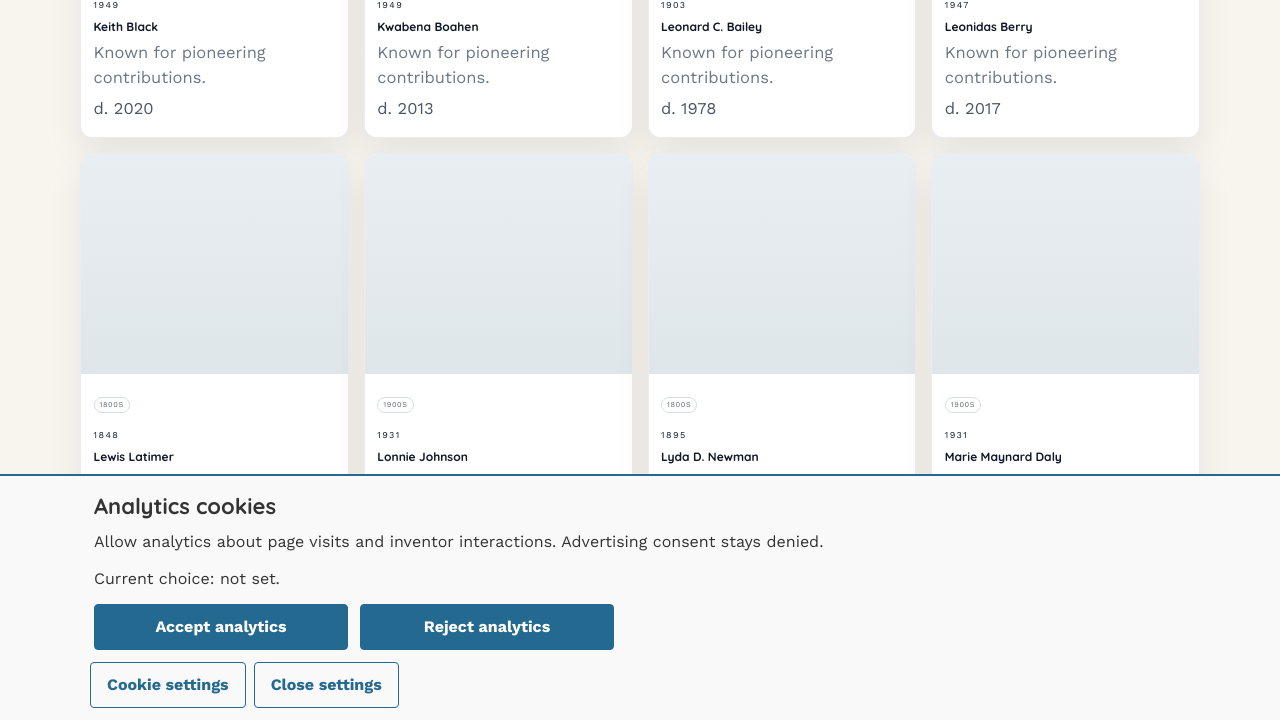
Test: app navigation › navigates from the archive grid to an inventor detail page
(page scrolled)
Click the link with aria-label "view details for lewis latimer".
click(214, 361)  # box left=81, top=154, right=348, bottom=567
(page scrolled)
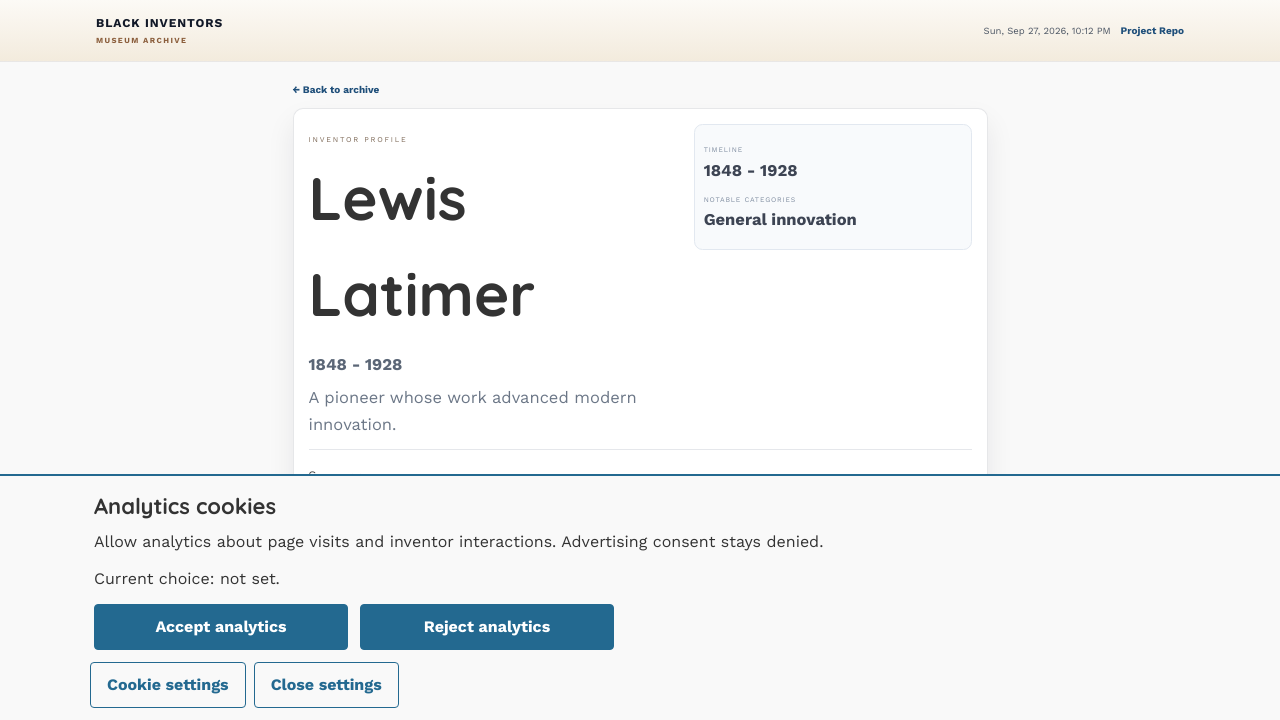
Expected: the heading "Lewis Latimer" is shown, left=308, top=160, right=535, bottom=331
Expected: the link "← Back to archive" is shown, left=292, top=84, right=379, bottom=96
